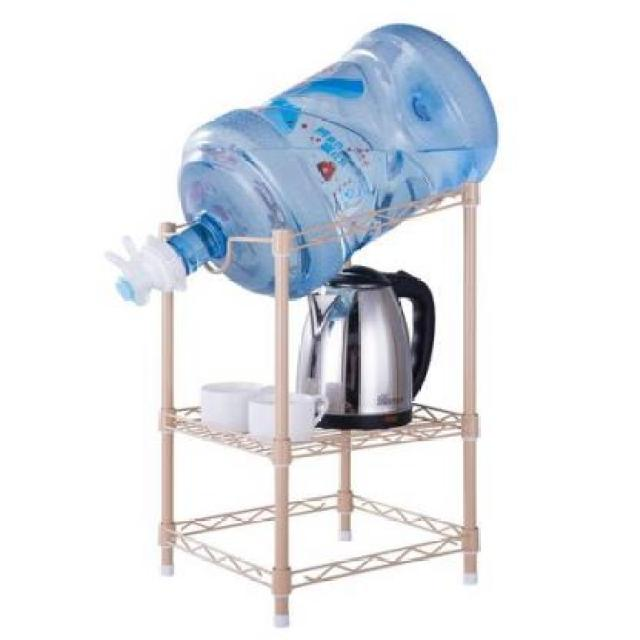coolerbottle: (165, 12, 504, 300)
